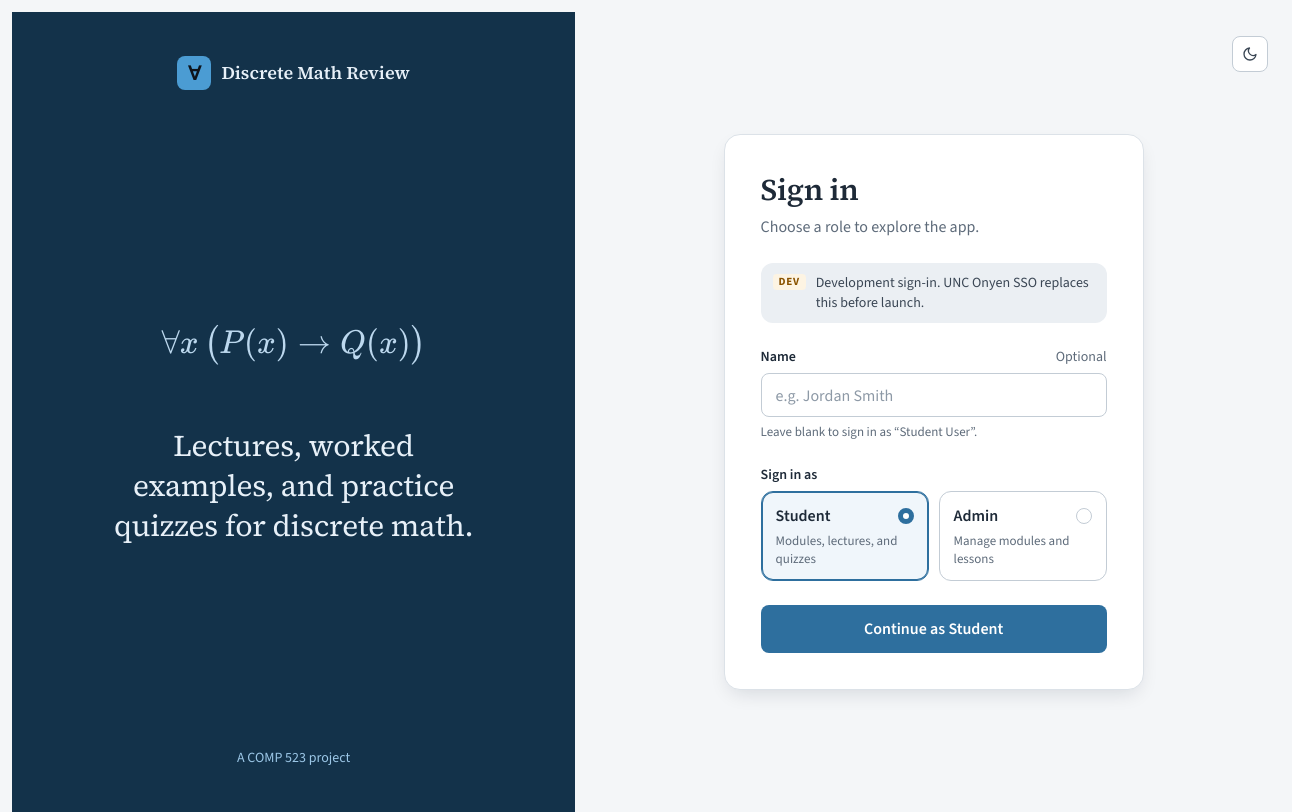
Test: Login › signs in a blank-name student as "Student User" and goes to /
The width and height of the screenshot is (1292, 812).
Click the button "Continue as Student" at (934, 629), box [761,605,1107,653]
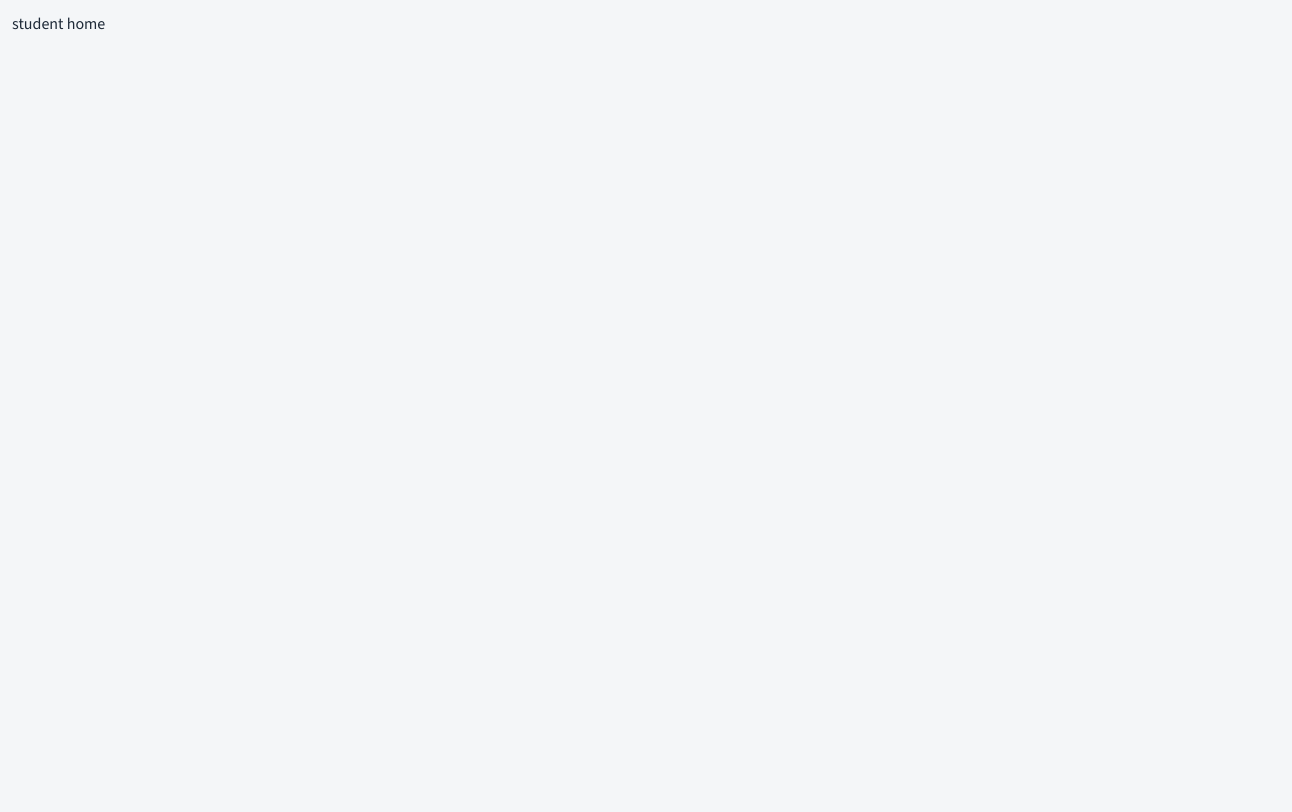
expect the text "student home" is shown: met, box [12,13,105,34]
